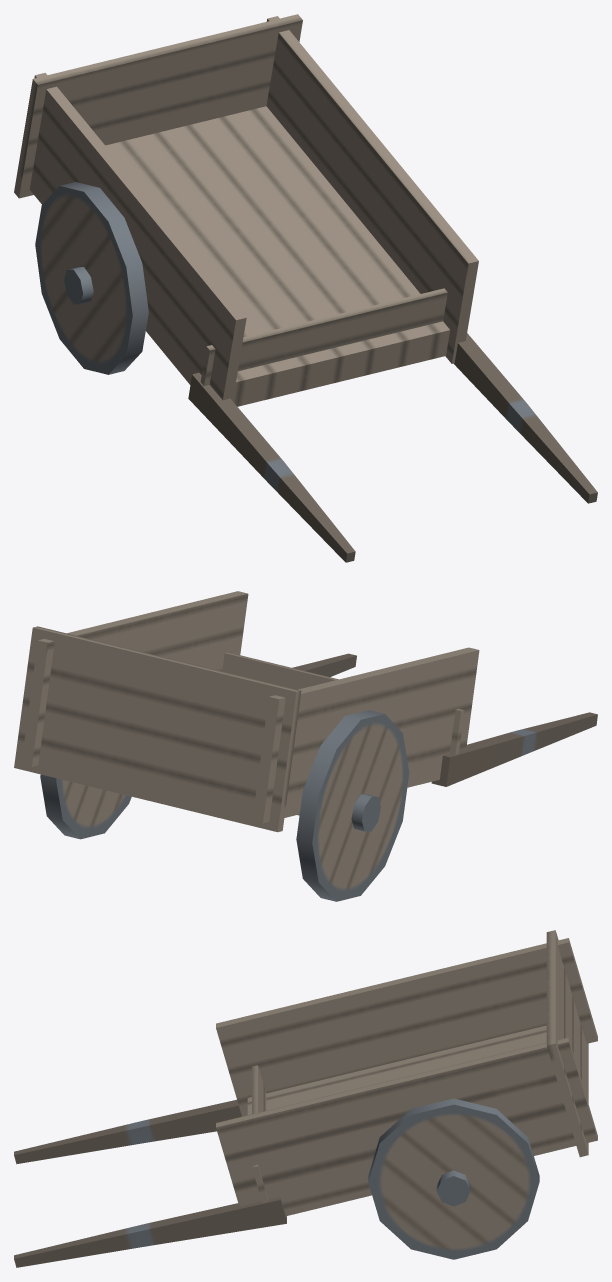
Rendered from sule.FBX.
The picture shows the model from 3 angles, top to bottom: view 1: azimuth 30°, elevation 25°; view 2: azimuth 150°, elevation 25°; view 3: azimuth 270°, elevation 25°; orthographic projection. The views are drawn at different scales.
Visible parts, largest first — view 1: Box001; view 2: Box001; view 3: Box001.
Part boxes in pixels (left/top/right/bottom): Box001: left=14, top=14, right=597, bottom=562; Box001: left=14, top=591, right=597, bottom=901; Box001: left=14, top=930, right=597, bottom=1267.
Bounding box in the file's own units: 23.28 × 19.48 × 45.19.
